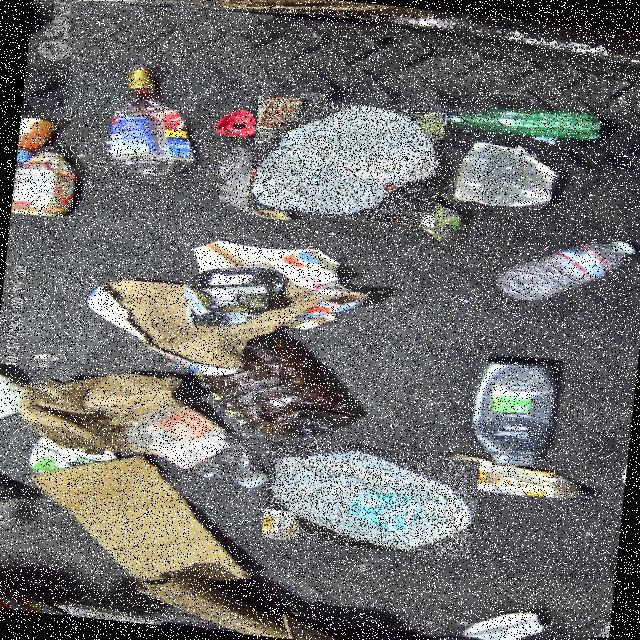milk-jug: (246, 94, 444, 227), (260, 439, 479, 558)
